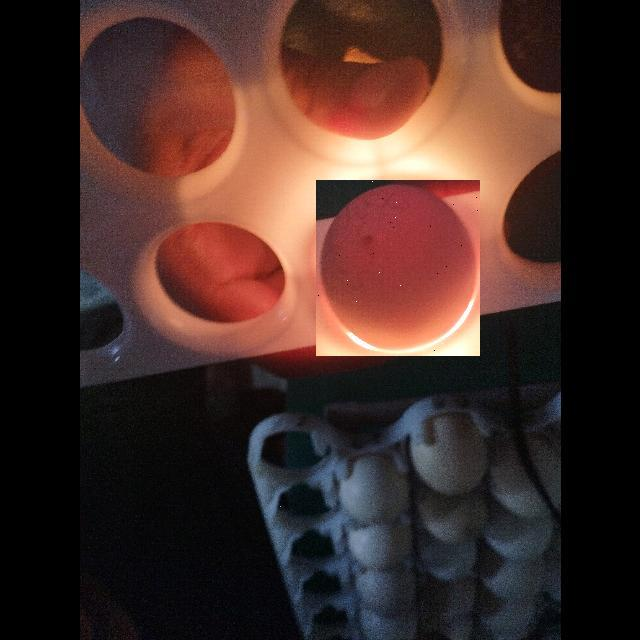Fertile: (316, 180, 480, 356)
